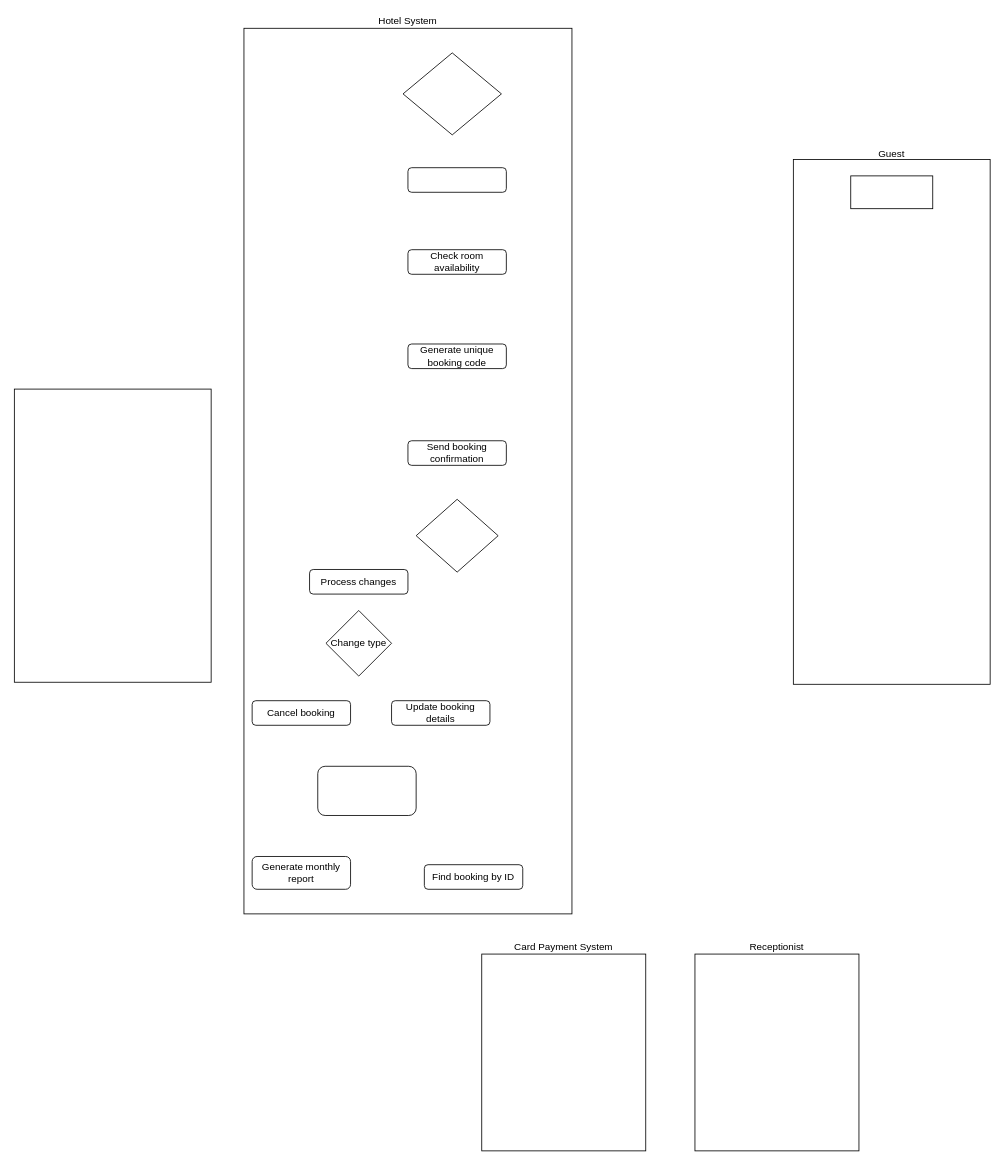
This 1005x1165 diagram has some shape labels left out. The centre of each missing label's shape, as x and y in pixels:
"Guest Registered?" belongs at (x=451, y=93).
"Hotel Manager" belongs at (x=112, y=535).
"Load existing guest data" belongs at (x=456, y=179).
"Modification request?" belongs at (x=456, y=535).
"Send updated confirmation" belongs at (x=366, y=790).
"Start: Visit hotel website" belongs at (x=891, y=192).
